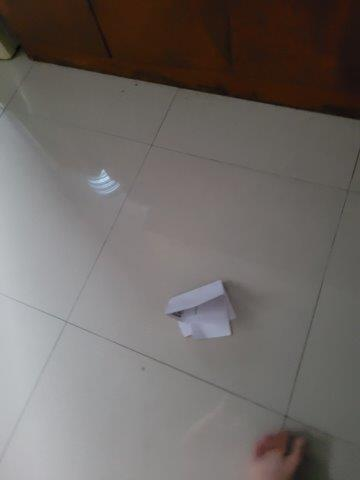kertas: (167, 279, 237, 341)
